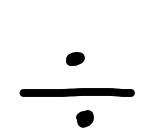div: (19, 52, 135, 128)
